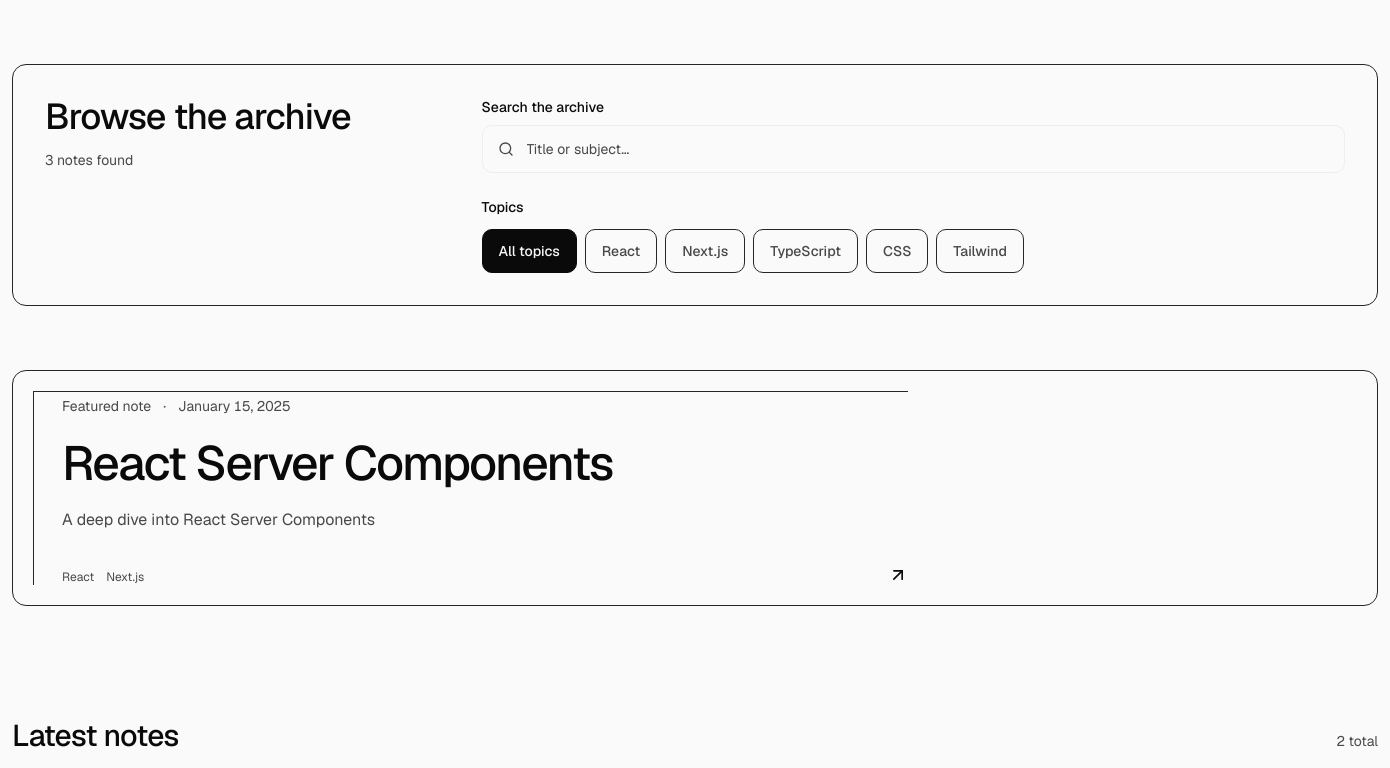
Test: BlogList › should filter posts by tag
This screenshot has width=1390, height=768.
Click the button "TypeScript" at (806,251), box [753,229,858,273]
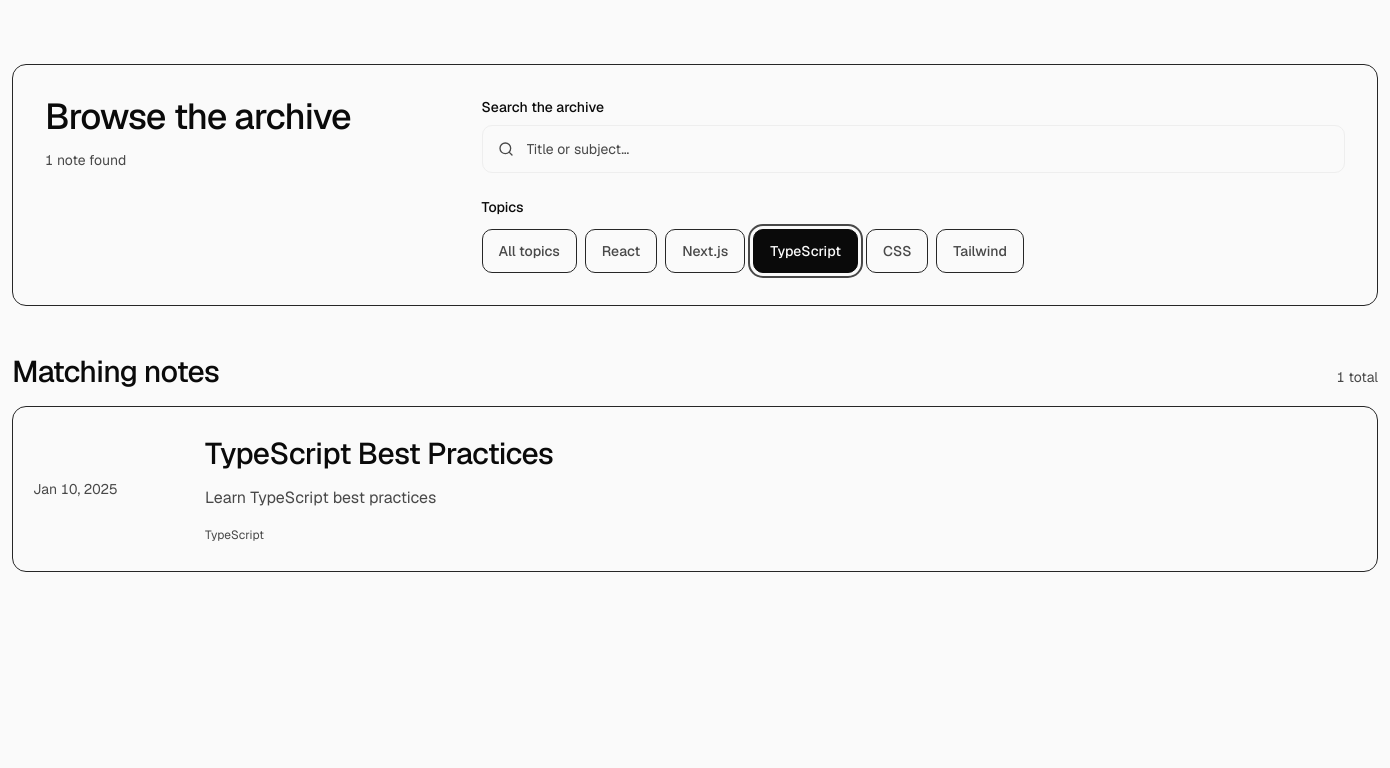
Check: the heading "TypeScript Best Practices" is shown, box [205,434,553,473]
Check: the link "React Server Components" is gone
